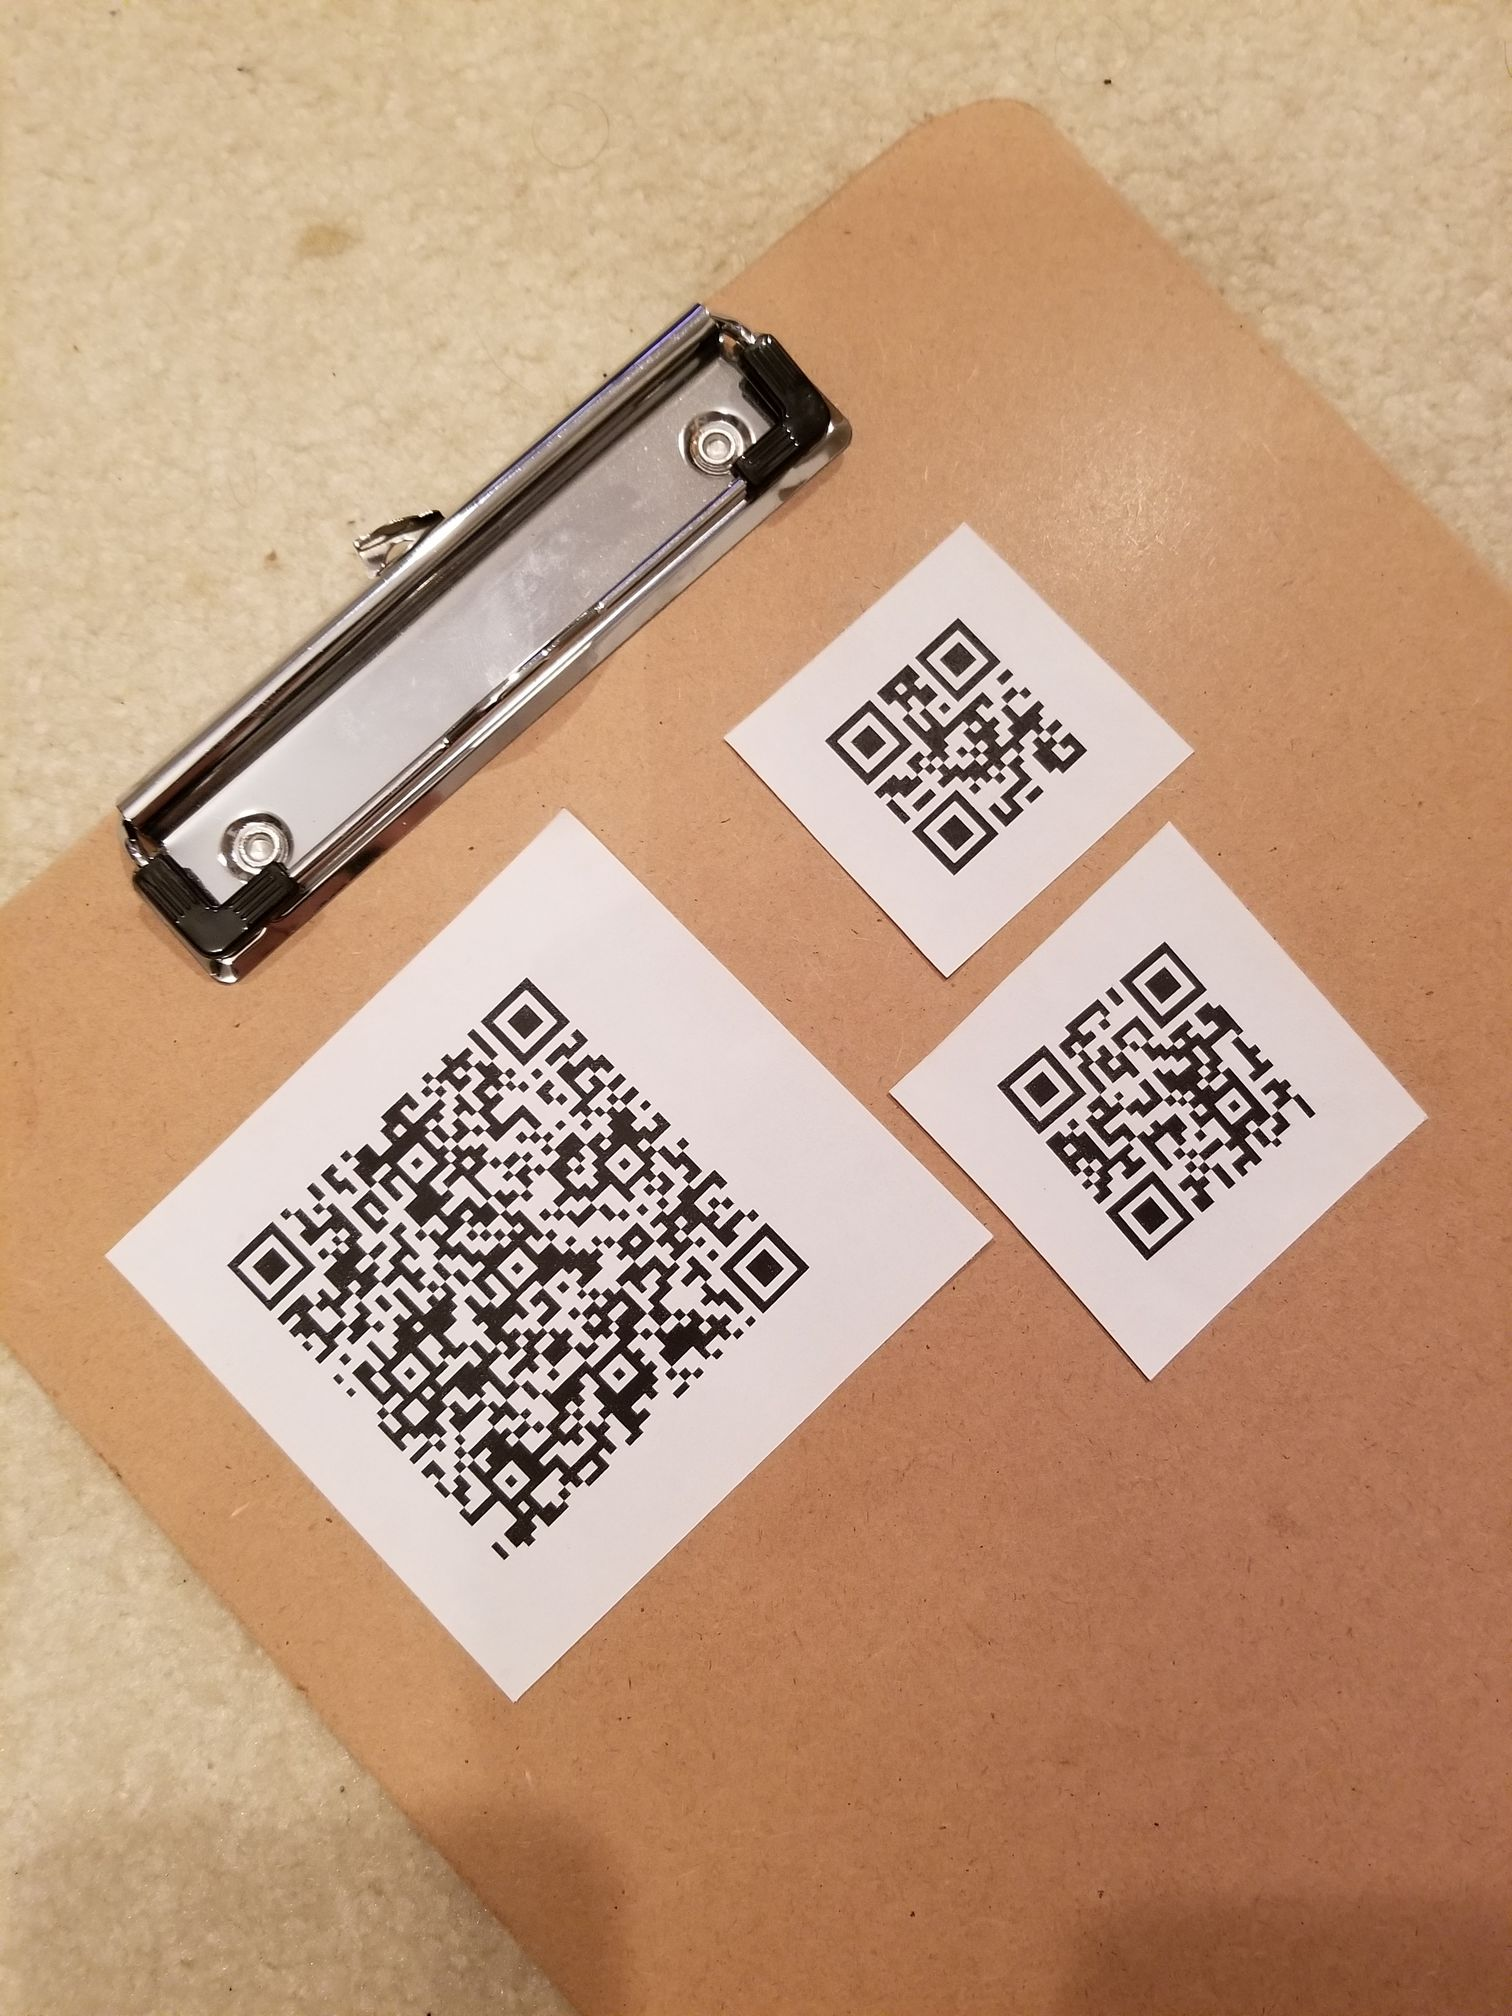QR_CODE: (202, 948, 831, 1583), (983, 913, 1337, 1306), (802, 578, 1113, 902)
